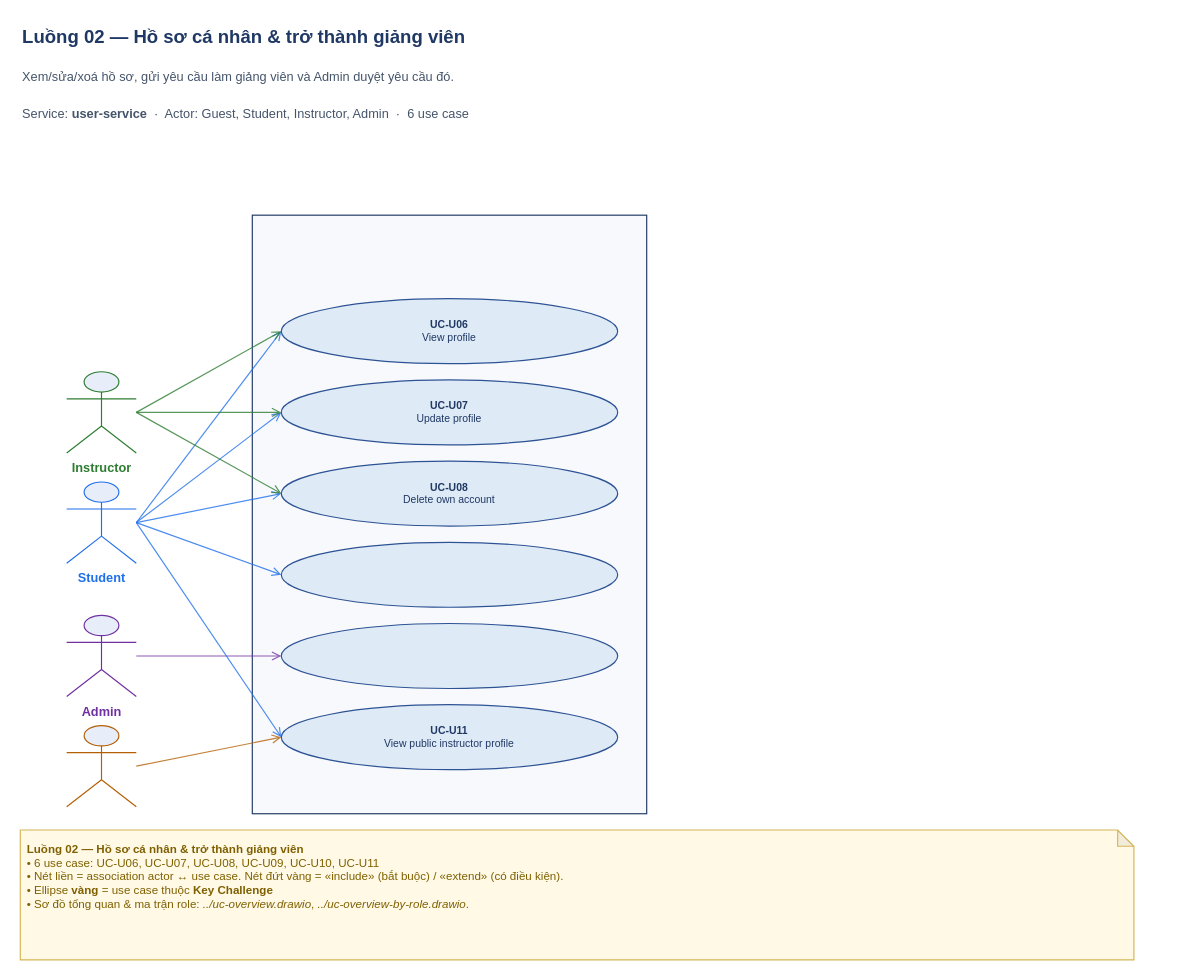
This 1201x980 diagram has some shape labels left out. The shapes that lost their labels are listed below. From the top down, each one's box as (x1, y1, x2, y2) in pixels, then its label:
(251, 214, 647, 814): «system» user-service
(280, 541, 618, 607): UC-U09 Apply to become instructor
(280, 622, 618, 688): UC-U10 Approve / Reject instructor request
(66, 724, 136, 807): Guest
